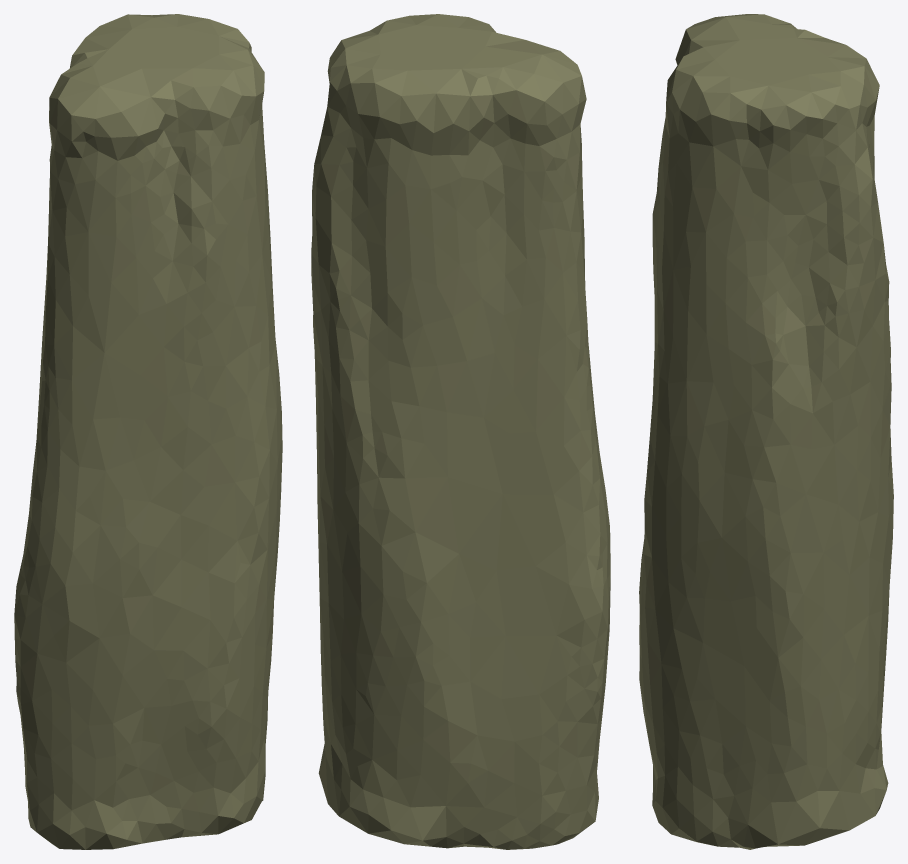
File: RockPillar02.fbx
3 renders of one model, left to right at view 1: azimuth 30°, elevation 25°; view 2: azimuth 150°, elevation 25°; view 3: azimuth 270°, elevation 25°, orthographic.
Visible parts, largest first — view 1: RockPillar02; view 2: RockPillar02; view 3: RockPillar02.
Boxes of the visible parts, x1=… form: RockPillar02: x1=14, y1=14, x2=282, y2=849; RockPillar02: x1=311, y1=14, x2=610, y2=849; RockPillar02: x1=639, y1=14, x2=893, y2=849.
Bounding box in the file's own units: 0.7071 × 1.96 × 0.5896.
